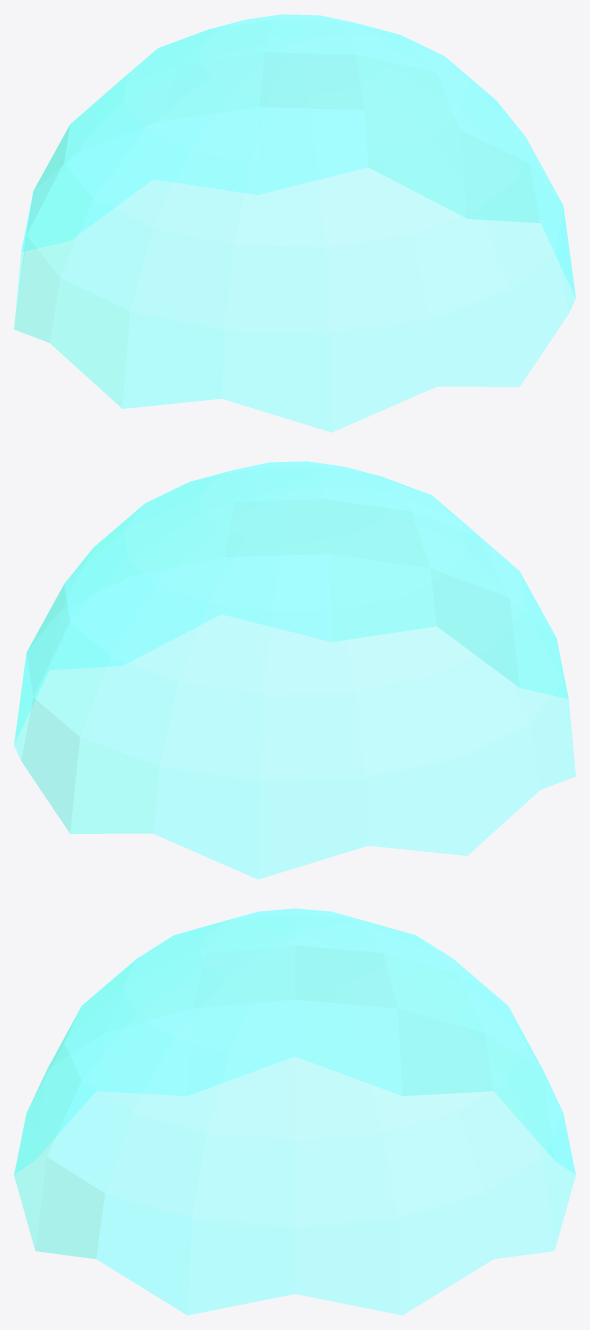
The model's file is SM_JellyBell.fbx.
3 renders of one model, top to bottom at view 1: azimuth 30°, elevation 25°; view 2: azimuth 150°, elevation 25°; view 3: azimuth 270°, elevation 25°, orthographic.
Visible parts, largest first — view 1: SM_JellyBell; view 2: SM_JellyBell; view 3: SM_JellyBell.
Part boxes in pixels (x1,y1,x2,y2): SM_JellyBell: [14, 14, 575, 432]; SM_JellyBell: [14, 461, 575, 879]; SM_JellyBell: [14, 908, 575, 1315].
Bounding box in the file's own units: 60 × 60 × 32.03.
